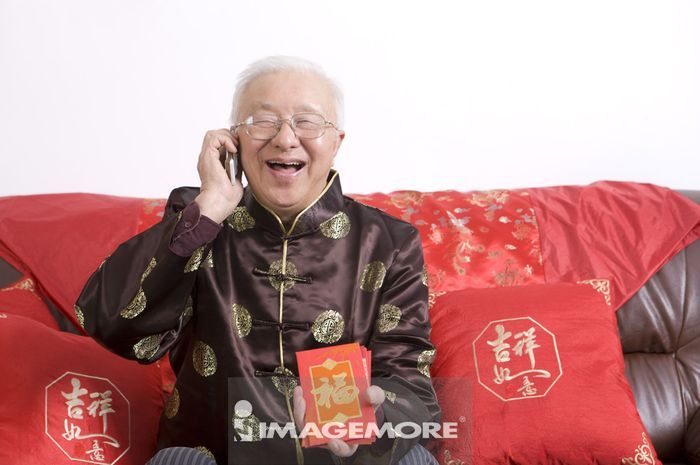talk: (195, 101, 328, 216)
